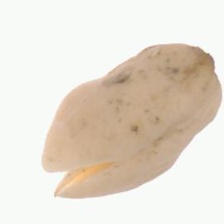L1: (39, 151, 75, 198), (194, 44, 221, 98)
L2: (40, 43, 222, 199)
